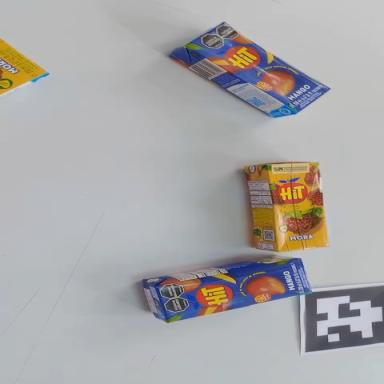HIT-MANGO: (169, 7, 330, 138), (141, 246, 311, 326)
HIT-MORA: (244, 157, 329, 255), (0, 39, 50, 112)
cara_F: (182, 9, 331, 125), (158, 255, 313, 324), (267, 159, 329, 252), (0, 38, 45, 95)
